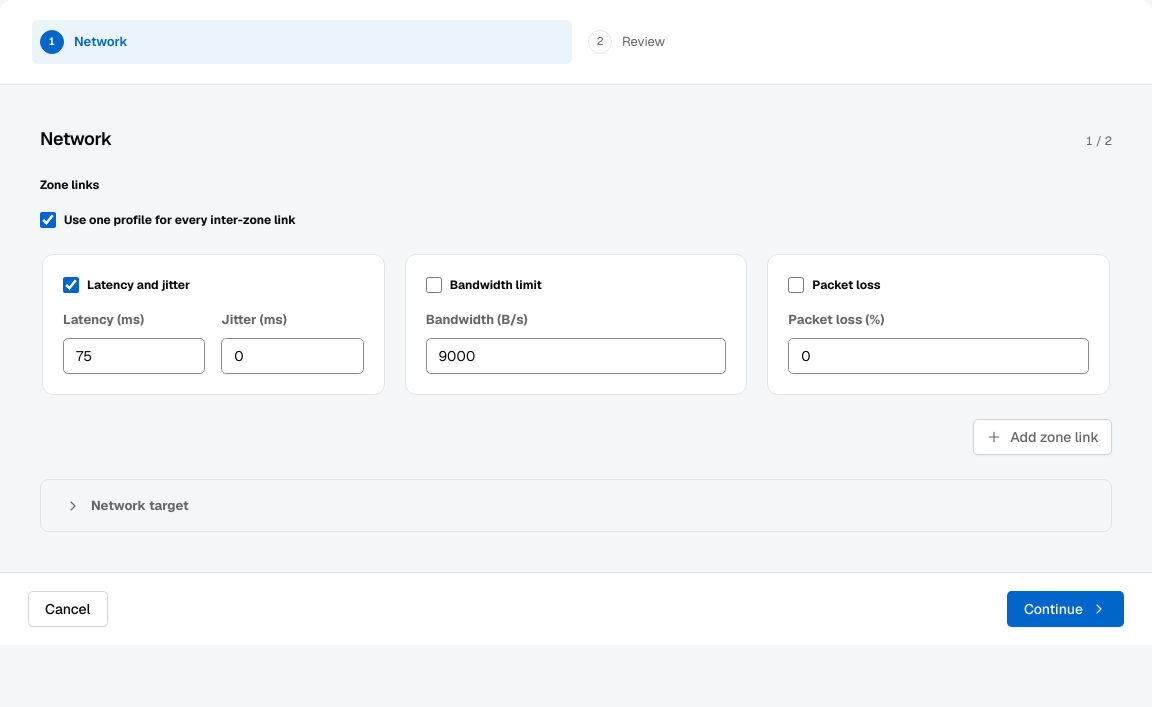
it: reviews only enabled shared effects while retaining inactive values for editing
Click the button "Continue".
click(1065, 609)  # box [1007,591,1124,627]
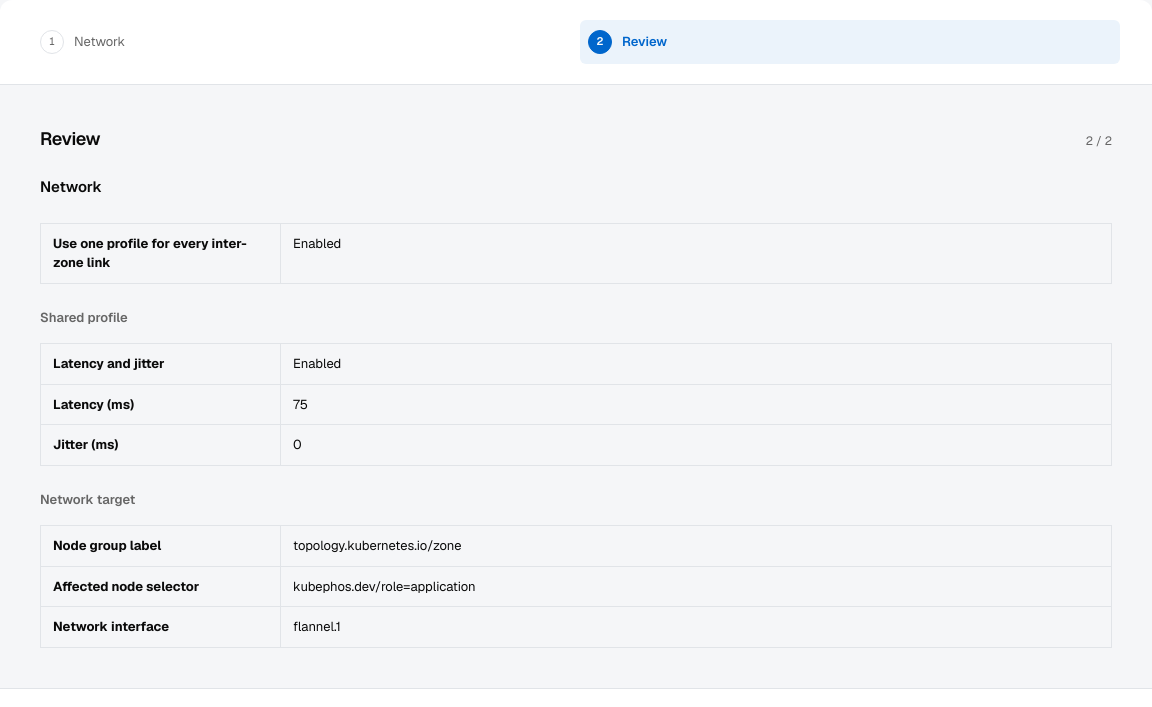
Expected: the text "9000" is not shown
Now the text "75" is shown, box [293,396,308,412]
Now the text "Bandwidth (B/s)" is gone
